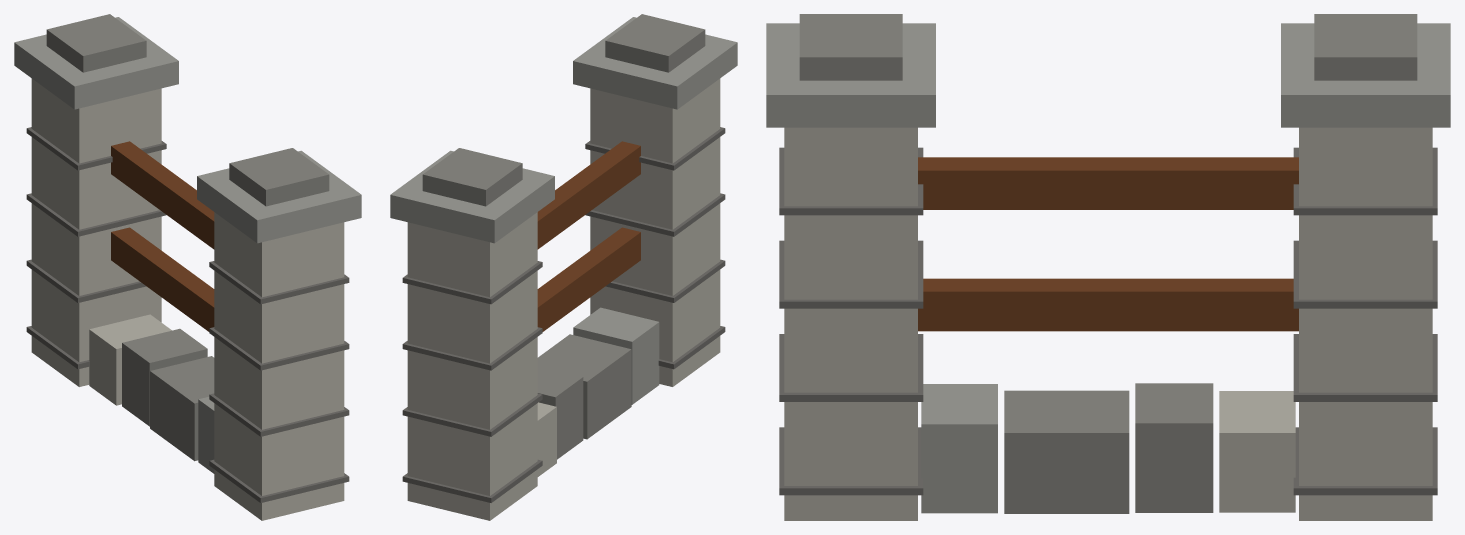
The model's file is fence-4.glb.
3 renders of one model, left to right at view 1: azimuth 30°, elevation 25°; view 2: azimuth 150°, elevation 25°; view 3: azimuth 270°, elevation 25°, orthographic. The views are drawn at different scales.
Parts seen in each view (by area): view 1: Fence4_Panel; view 2: Fence4_Panel; view 3: Fence4_Panel.
Part boxes in pixels (x1,y1,x2,y2): Fence4_Panel: [14, 14, 361, 520]; Fence4_Panel: [390, 14, 737, 520]; Fence4_Panel: [766, 14, 1450, 520].
Size of the model in its own units: 0.33 by 0.98 by 1.33.
